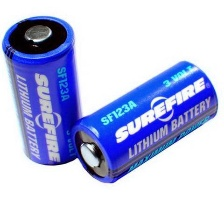battery: (64, 58, 222, 187), (1, 15, 89, 170)
